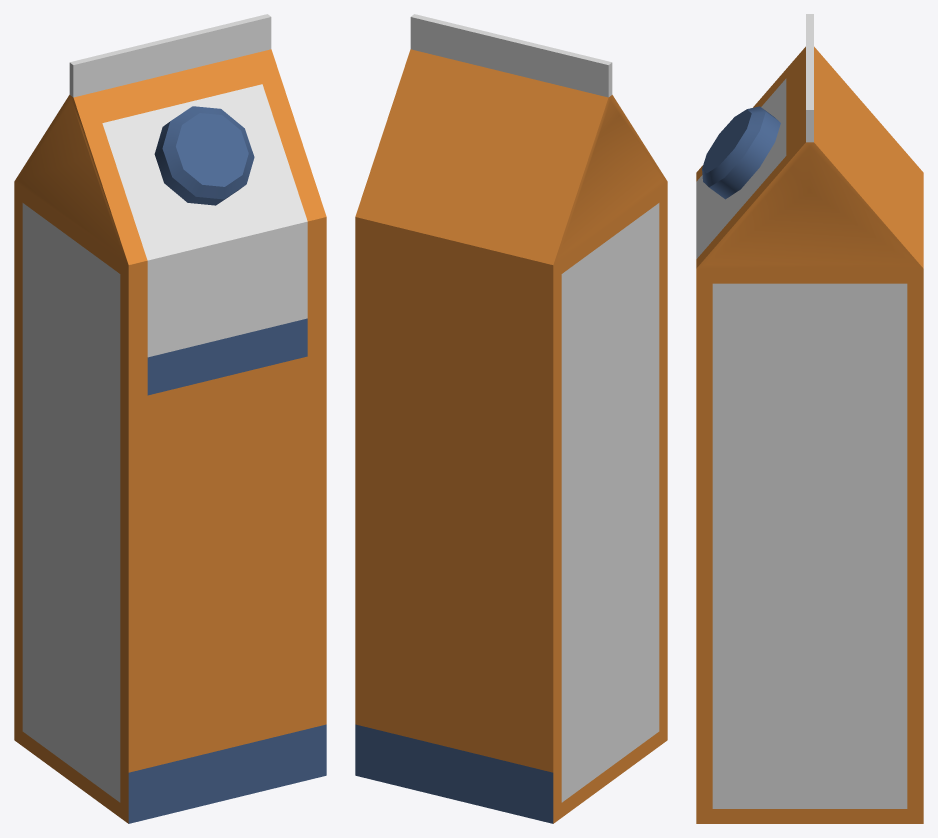
The model's file is FruitJuice_01.fbx.
3 renders of one model, left to right at view 1: azimuth 30°, elevation 25°; view 2: azimuth 150°, elevation 25°; view 3: azimuth 270°, elevation 25°, orthographic.
Parts seen in each view (by area): view 1: FruitJuice_01; view 2: FruitJuice_01; view 3: FruitJuice_01.
Part boxes in pixels (box(x1,y1,x2,y2)): FruitJuice_01: box(14, 14, 326, 823); FruitJuice_01: box(355, 14, 667, 823); FruitJuice_01: box(696, 14, 923, 823).
Bounding box in the file's own units: 0.0856 × 0.2967 × 0.0856.
